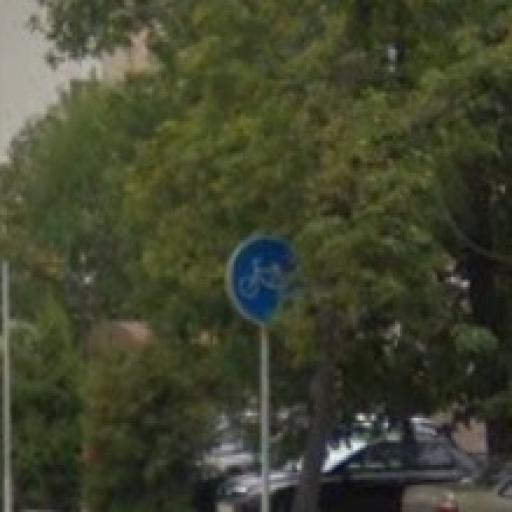traffic_sign: (228, 231, 305, 328)
